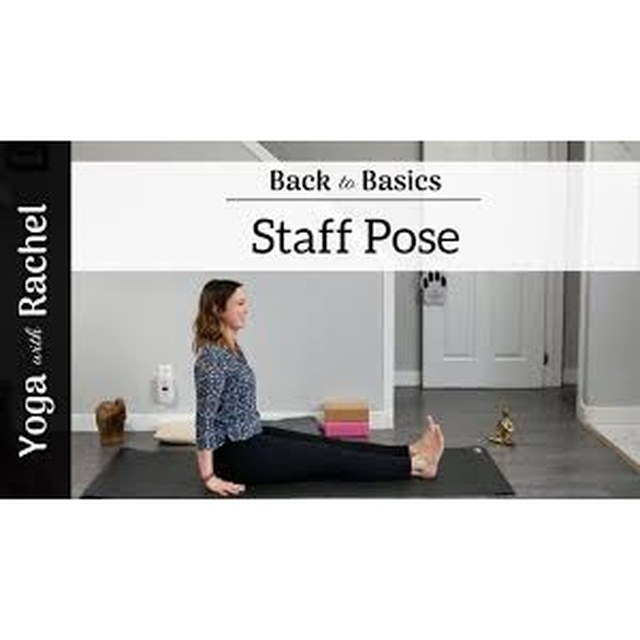Staff_Pose: (196, 277, 447, 496)
